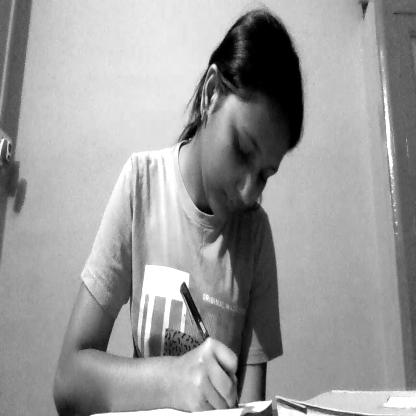Distracted: (201, 56, 283, 228)
